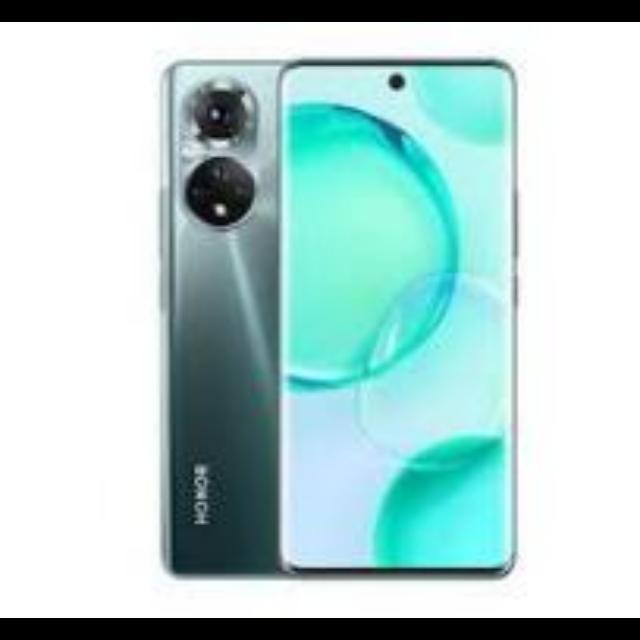phone: (251, 52, 510, 581), (165, 46, 285, 582)
